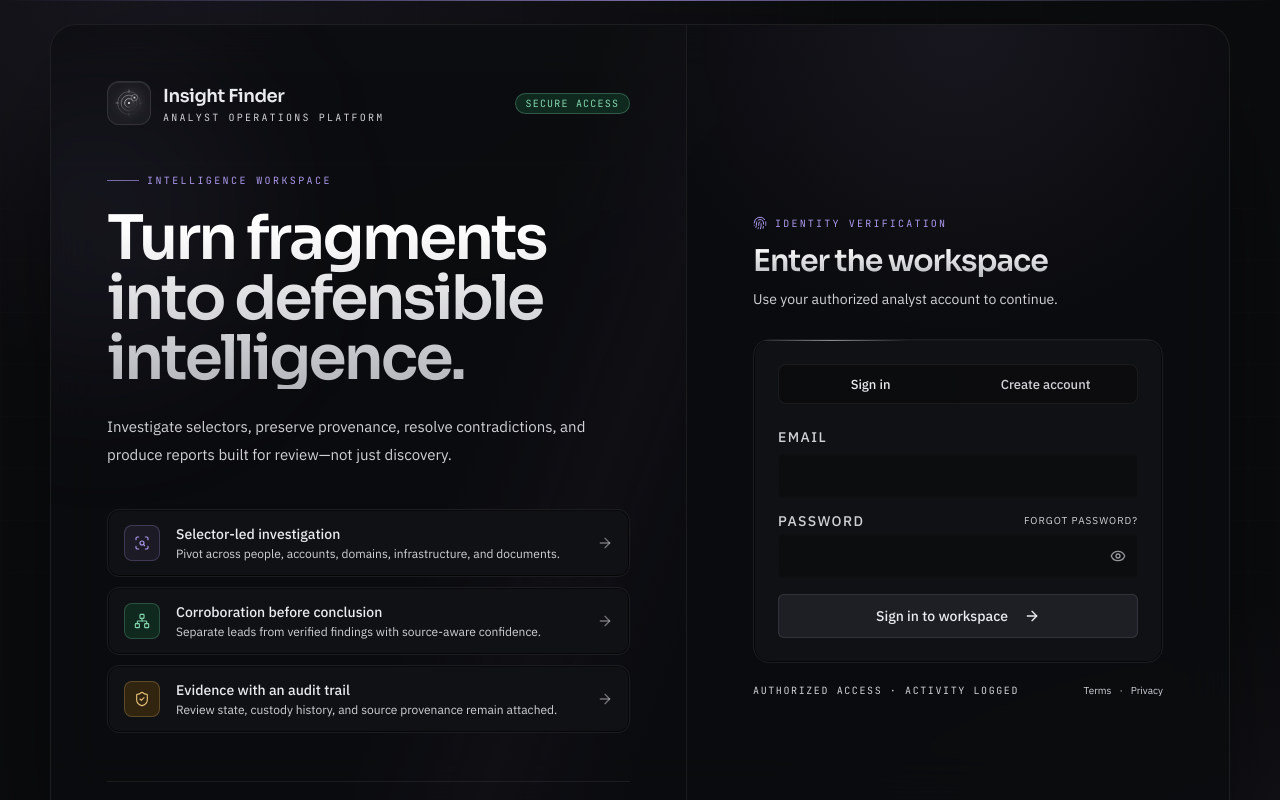
Test: access gateway — recovery path › can return to sign in without a reload
The image size is (1280, 800).
Later steps or results of the test are not shown.
Click the button "Forgot password?" at (1081, 521), box [1024, 515, 1138, 526]
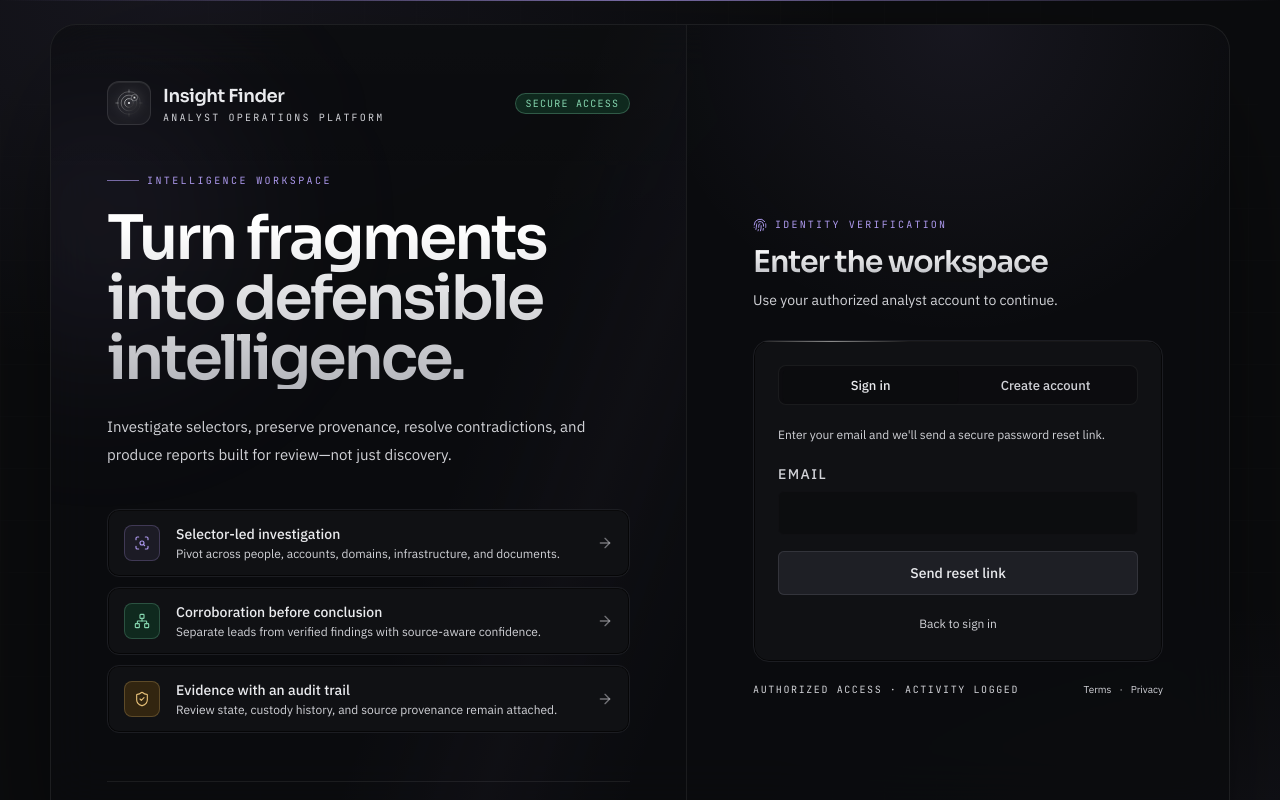
Check: the button "Back to sign in" is shown, box [778, 611, 1138, 636]
